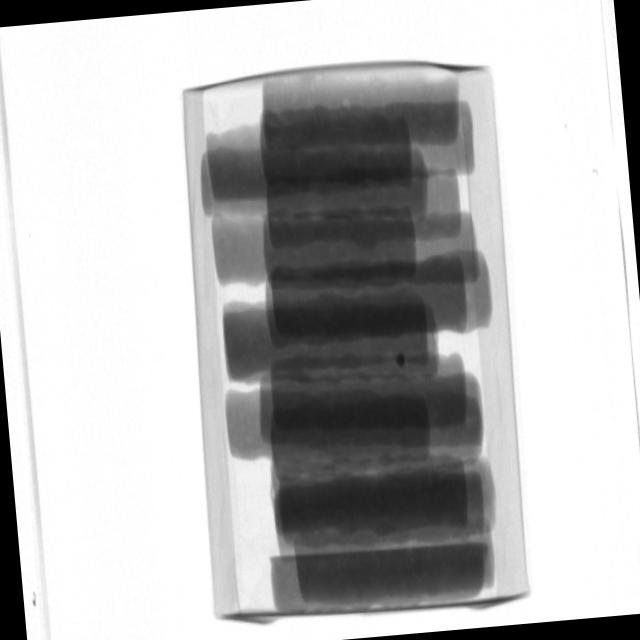ym: (395, 352, 407, 367)
